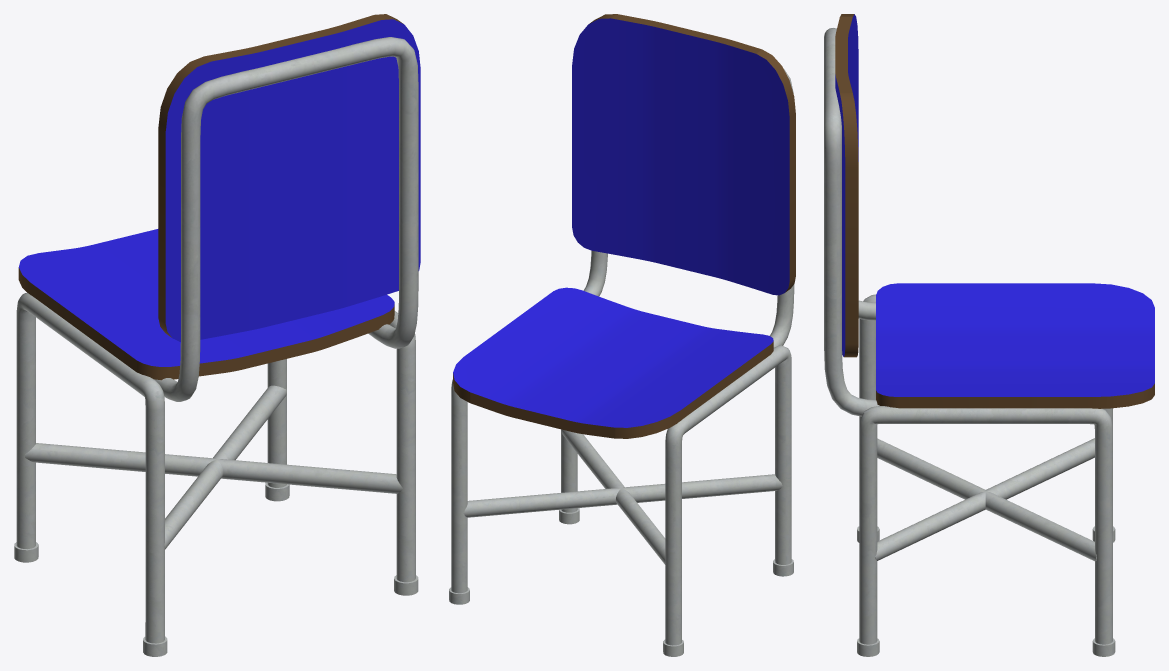
Rendered from Silla.fbx.
The picture shows the model from 3 angles, left to right: view 1: azimuth 30°, elevation 25°; view 2: azimuth 150°, elevation 25°; view 3: azimuth 270°, elevation 25°; orthographic projection. The views are drawn at different scales.
Parts seen in each view (by area): view 1: Silla; view 2: Silla; view 3: Silla.
Boxes of the visible parts, box(x1,y1,x2,y2) form: Silla: box(14, 14, 420, 656); Silla: box(449, 14, 795, 656); Silla: box(824, 14, 1154, 656).
Size of the model in its own units: 43.25 by 89.81 by 49.75.
Materials: 4 (1 with a texture image).
